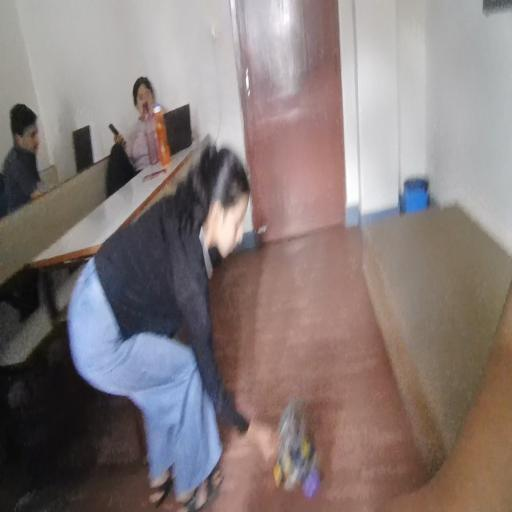car: (283, 414, 317, 491)
